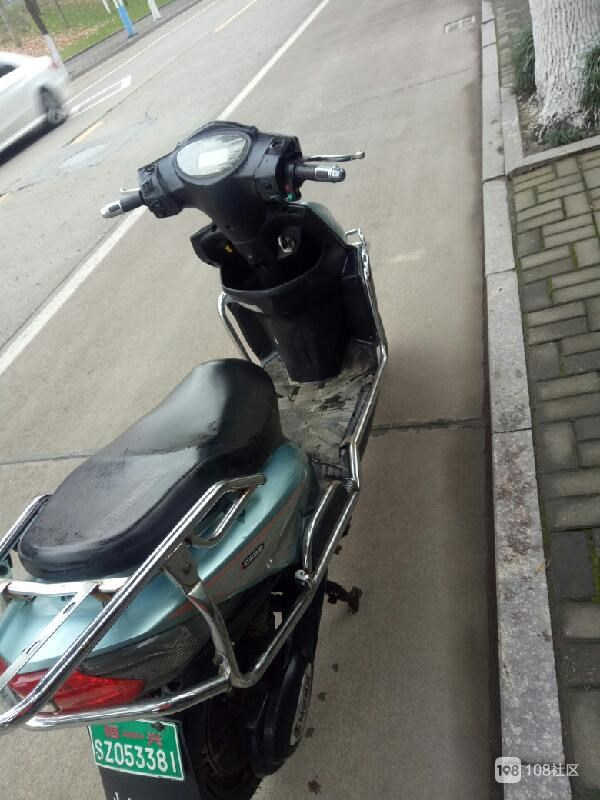电动车: (1, 116, 392, 798)
